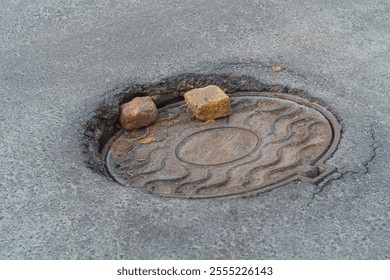Open_manhole: (61, 71, 367, 208)
